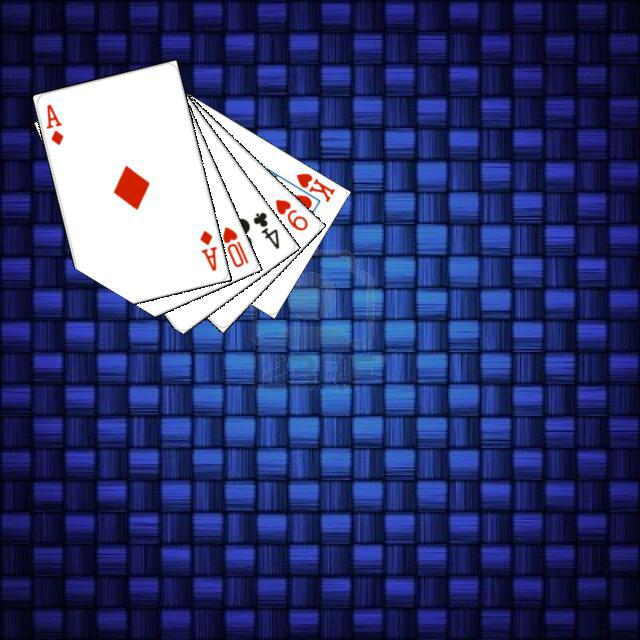10h: (217, 221, 250, 269)
4c: (248, 207, 281, 251)
9h: (270, 194, 310, 232)
Ad: (41, 99, 65, 146), (195, 225, 218, 273)
Kh: (282, 168, 337, 206)
